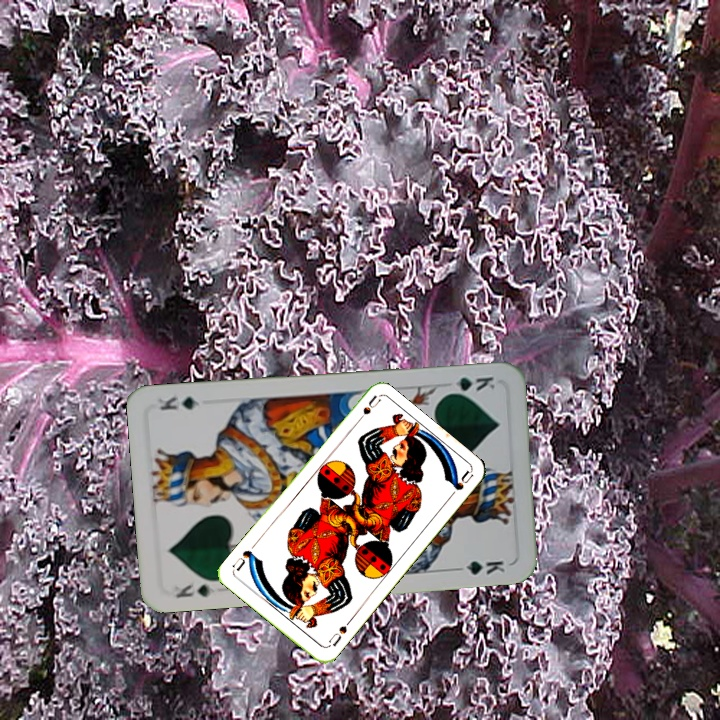GK: (441, 372, 498, 397), (170, 577, 224, 600)
SU: (350, 392, 383, 428), (323, 616, 354, 650)
